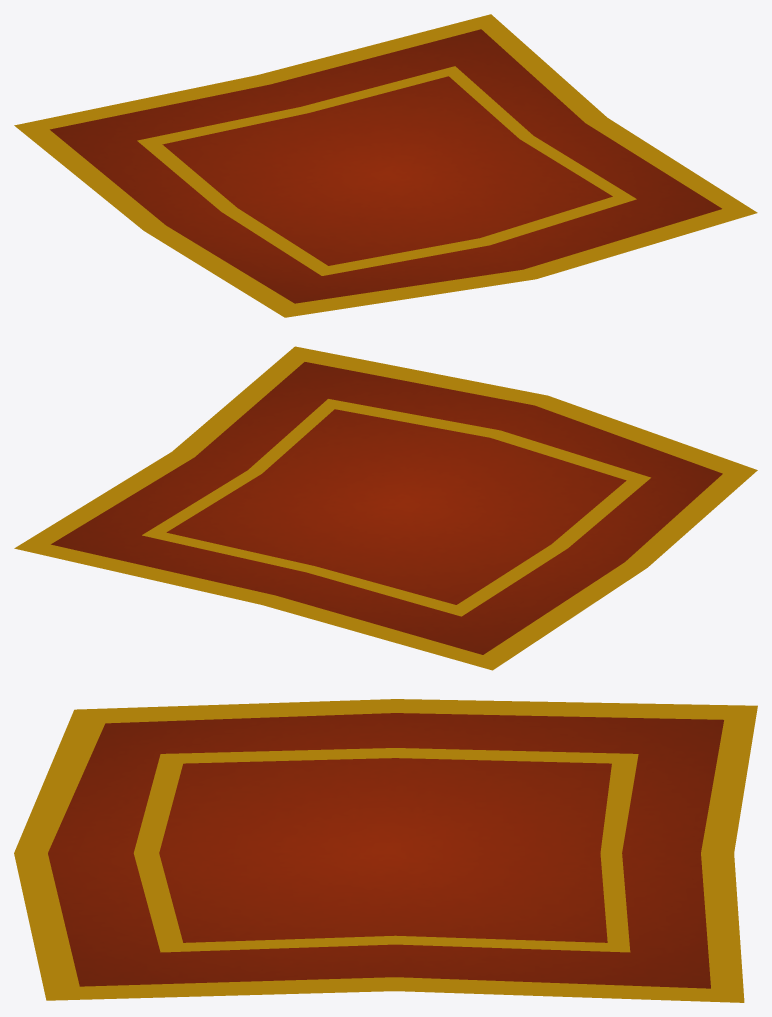
The model's file is CarpetSquare.fbx.
The picture shows the model from 3 angles, top to bottom: view 1: azimuth 30°, elevation 25°; view 2: azimuth 150°, elevation 25°; view 3: azimuth 270°, elevation 25°; orthographic projection. The views are drawn at different scales.
Parts seen in each view (by area): view 1: Plane; view 2: Plane; view 3: Plane.
Part boxes in pixels (left/top/right/bottom): Plane: left=14, top=14, right=757, bottom=317; Plane: left=14, top=346, right=757, bottom=670; Plane: left=14, top=699, right=757, bottom=1002.
Size of the model in its own units: 231 by 1.86e-07 by 239.
